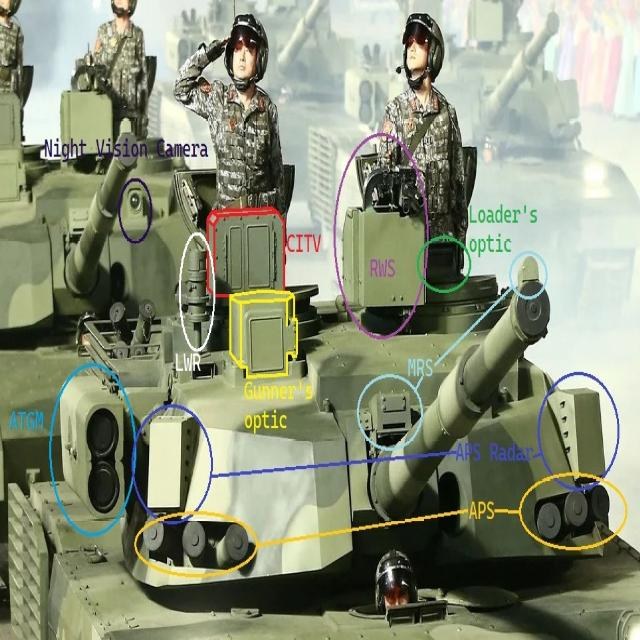north tank: (8, 174, 640, 640)
